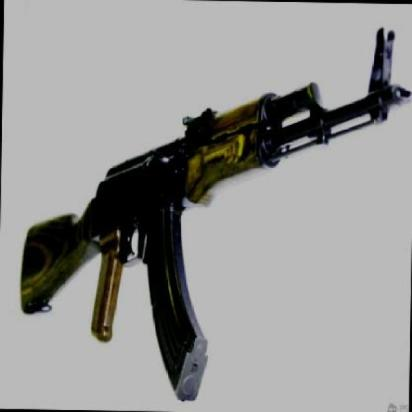Gun: (17, 21, 395, 398)
